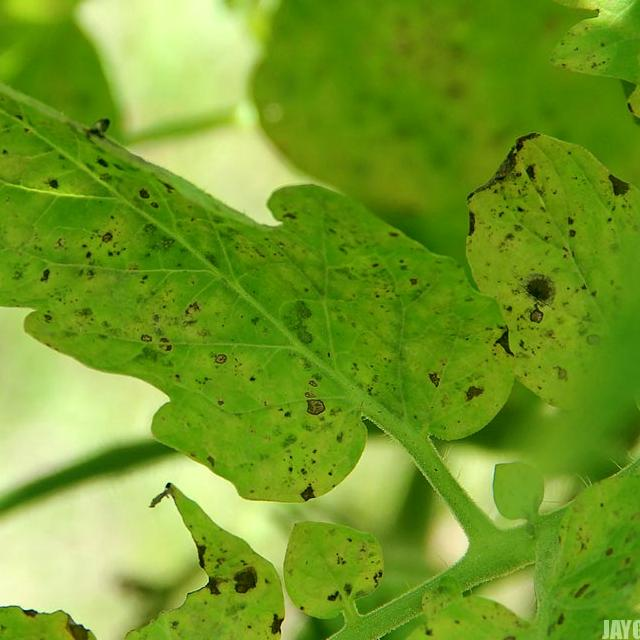Tomato Septoria leaf spot: (0, 35, 517, 488), (433, 82, 640, 479)
